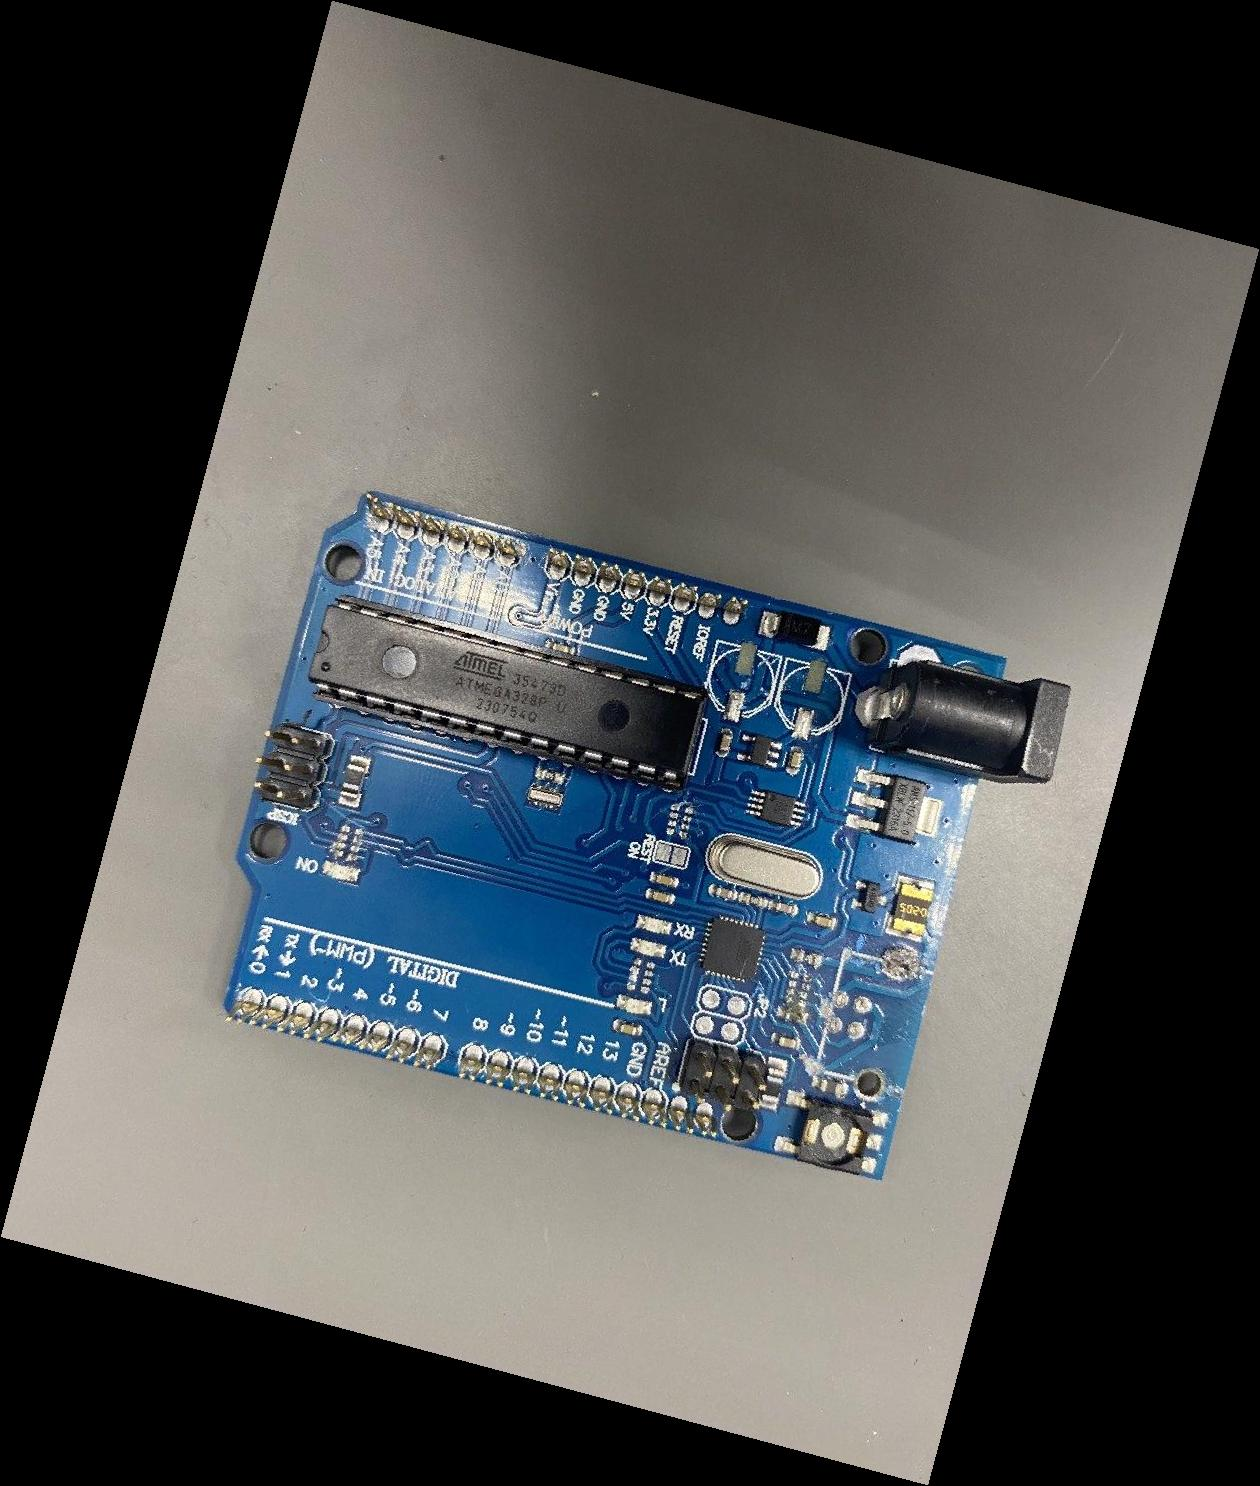ATmega328 chip: (307, 595, 709, 791)
Arduino board: (222, 489, 1071, 1181)
